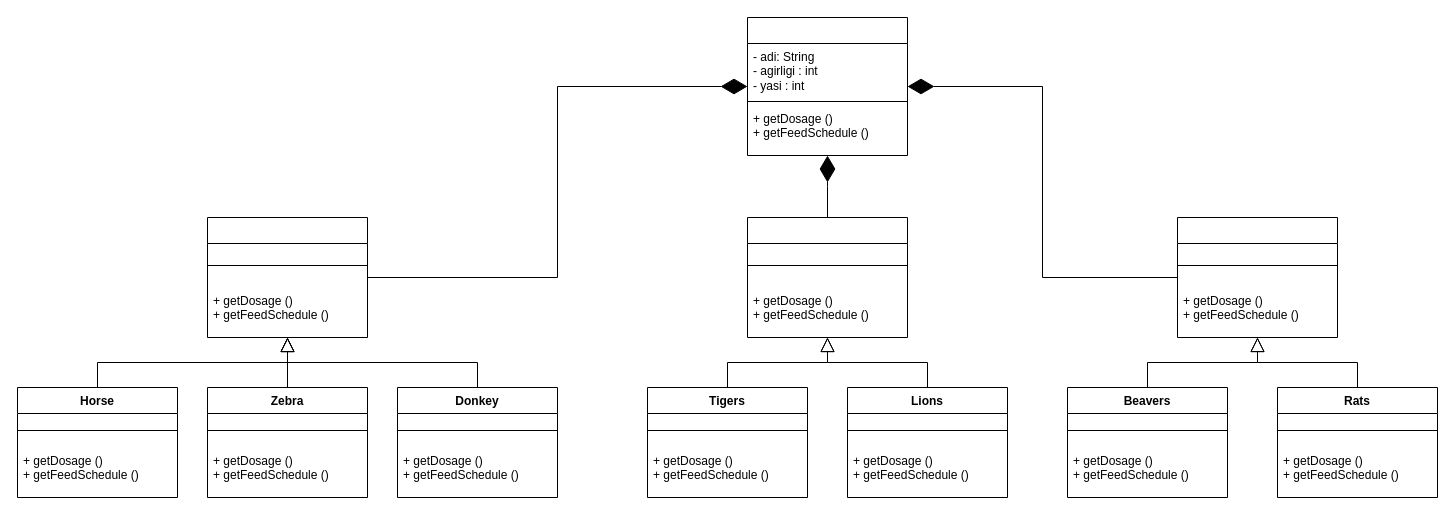
This 1455x518 diagram has some shape labels left out. Each missing label, with the box of its shape:
Animals: (746, 16, 908, 156)
Felines: (746, 216, 908, 338)
Horses: (206, 216, 368, 338)
Rodents: (1176, 216, 1338, 338)
